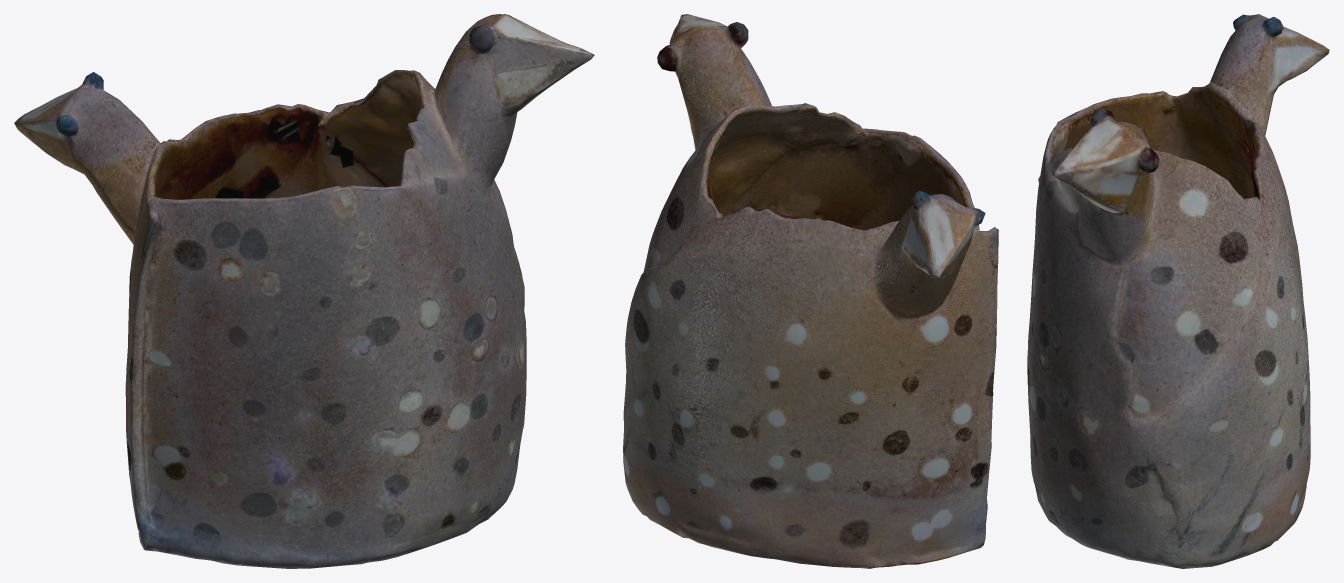
The picture shows the model from 3 angles, left to right: view 1: azimuth 30°, elevation 25°; view 2: azimuth 150°, elevation 25°; view 3: azimuth 270°, elevation 25°; orthographic projection. The views are drawn at different scales.
Visible parts, largest first — view 1: 8-10-4k; view 2: 8-10-4k; view 3: 8-10-4k.
Part boxes in pixels (<box>): 8-10-4k: <box>14,14,594,568</box>; 8-10-4k: <box>623,14,998,568</box>; 8-10-4k: <box>1027,14,1329,568</box>.
Bounding box in the file's own units: 0.9942 × 1.05 × 0.6579.
1 material, 1 textured.
